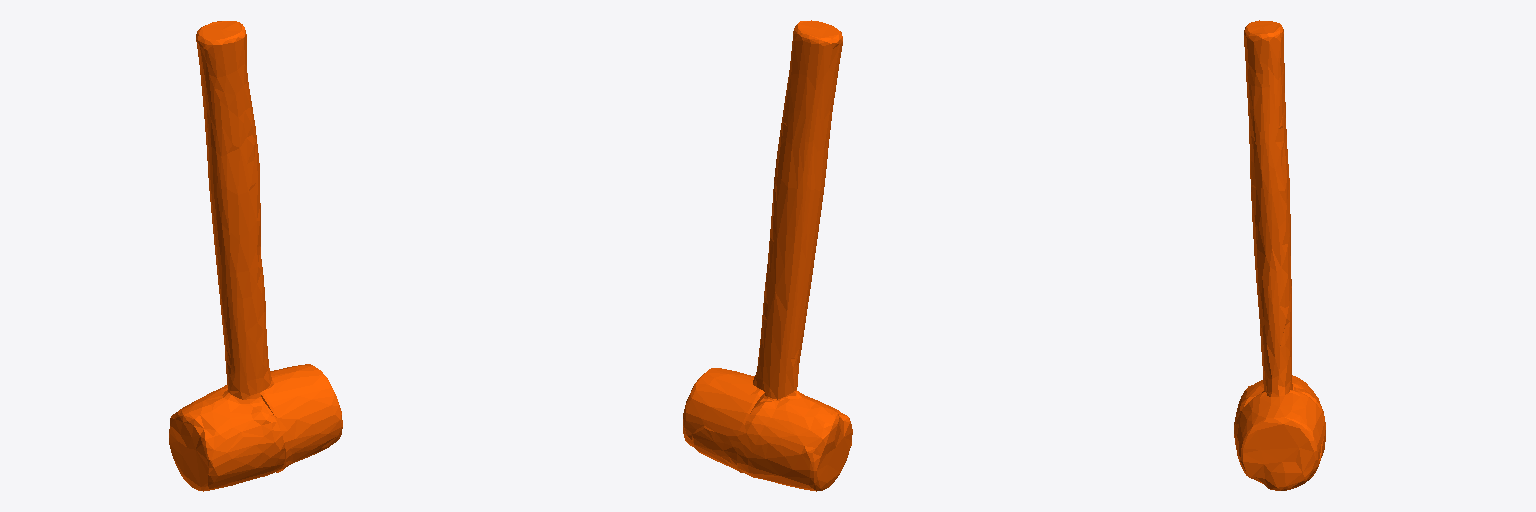
The robot description file, URDF, robot "hammer":
<?xml version="1.0" ?>
<robot name="hammer">
   <material name="obj_color">
      <color rgba="1.0 0.423529411765 0.0392156862745 1.0"/>
   </material>
   <link name="top">
      <inertial>
         <origin rpy="0.0007064670882009887 0.009693950077845757 0.01006998799883992" xyz="-0.003873023028525585 -0.0009972433552078131 0.005828096710469803"/>
         <mass value="0.9792978197536114"/>
         <inertia ixx="0.009583882793549022" ixy="-4.354761230390601e-05" ixz="0.0009877250120079023" iyy="0.0100551186829644" iyz="0.0003701180524270358" izz="0.000831403688373241"/>
      </inertial>
      <visual>
         <origin rpy="0 0 0" xyz="0 0 0"/>
         <geometry>
            <mesh filename="top_watertight_tiny.stl" scale="1 1 1"/>
         </geometry>
         <material name="obj_color"/>
      </visual>
      <collision>
         <origin rpy="0 0 0" xyz="0 0 0"/>
         <geometry>
            <mesh filename="top_watertight_tiny.obj" scale="1 1 1"/>
         </geometry>
      </collision>
   </link>
   <link name="bottom">
      <inertial>
         <origin rpy="1.633333333199431e-08 1.633333333199431e-08 1.633333333362855e-08" xyz="0.3464080000000008 0.3464080000000008 0.3464080000000008"/>
         <mass value="0.0009800000000000017"/>
         <inertia ixx="1.633333333253906e-08" ixy="5.447480642029219e-19" ixz="5.447480642029219e-19" iyy="1.633333333253906e-08" iyz="5.447480642029219e-19" izz="1.633333333253906e-08"/>
      </inertial>
      <visual>
         <origin rpy="0 0 0" xyz="0 0 0"/>
         <geometry>
            <mesh filename="bottom_watertight_tiny.stl" scale="1 1 1"/>
         </geometry>
         <material name="obj_color"/>
      </visual>
   </link>
   <link name="world"/>
   <joint name="world_to_base" type="fixed">
      <origin xyz="0 0 0"/>
      <axis xyz="0 0 0"/>
      <parent link="world"/>
      <child link="bottom"/>
   </joint>
   <joint name="rotation" type="revolute">
      <origin xyz="0 0 0"/>
      <axis xyz="0 0 -1"/>
      <parent link="bottom"/>
      <child link="top"/>
      <dynamics damping="1.0" friction="1.0"/>
      <limit effort="0.1" velocity="0.1" lower="0" upper="0.001"/>
   </joint>
</robot>

--- What the picture shows (computed from the rendered views, not written in the file) ---
Views: 3 orthographic renders of the robot side by side, from view 1: azimuth 30°, elevation 25°; view 2: azimuth 150°, elevation 25°; view 3: azimuth 270°, elevation 25°.
Model hammer with 3 links and 2 joints (1 revolute, 1 fixed), rooted at world, posed every joint at zero.
Visible links, largest first — view 1: top; view 2: top; view 3: top.
Link boxes in pixels (bbox=[...]): top: bbox=[169, 21, 342, 491]; top: bbox=[683, 20, 852, 491]; top: bbox=[1234, 20, 1325, 490].
Bounding box of the posed robot: 0.1116 × 0.0659 × 0.34 m (x, y, z).
Meshes: 2 distinct files referenced, 1 mesh visuals loaded (1 binary STL); not drawn: 1 (reference not matched to a file when rendering).
